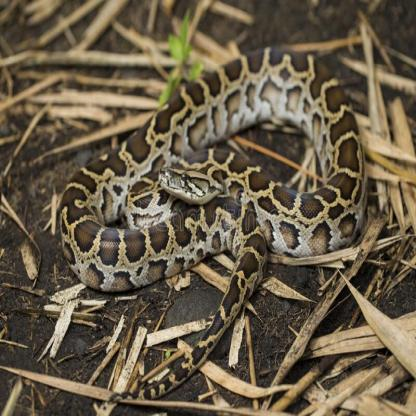Snake: (59, 49, 367, 396), (148, 139, 239, 235)
